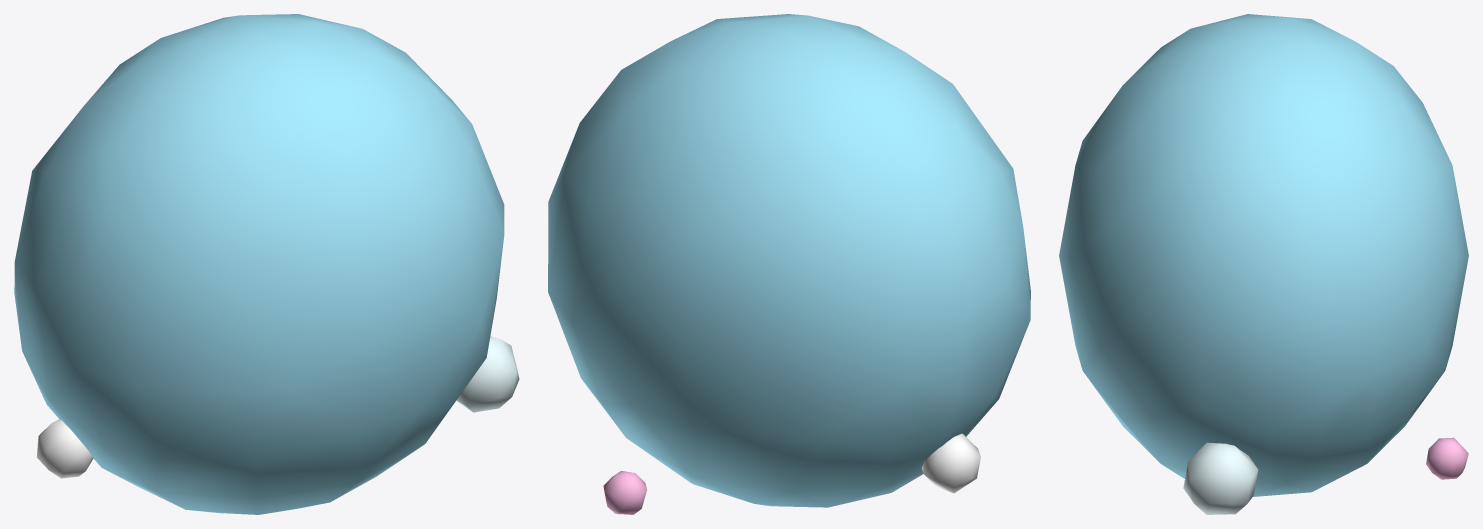
Rendered from bubble-shield.glb.
3 views of the same model, side by side, from view 1: azimuth 30°, elevation 25°; view 2: azimuth 150°, elevation 25°; view 3: azimuth 270°, elevation 25° (orthographic). The views are drawn at different scales.
Visible parts, largest first — view 1: bubble shield, satellite bubble, satellite bubble.001; view 2: bubble shield, satellite bubble.001, satellite bubble.002; view 3: bubble shield, satellite bubble, satellite bubble.002.
Boxes of the visible parts, <box> form: bubble shield: <box>14,14,504,514</box>; satellite bubble: <box>456,336,519,412</box>; satellite bubble.001: <box>36,419,93,478</box>; bubble shield: <box>548,14,1030,507</box>; satellite bubble.001: <box>921,433,980,493</box>; satellite bubble.002: <box>603,471,647,514</box>; bubble shield: <box>1059,14,1468,496</box>; satellite bubble: <box>1183,442,1258,514</box>; satellite bubble.002: <box>1426,437,1468,479</box>.
Size of the model in its own units: 0.4573 by 0.45 by 0.38.
